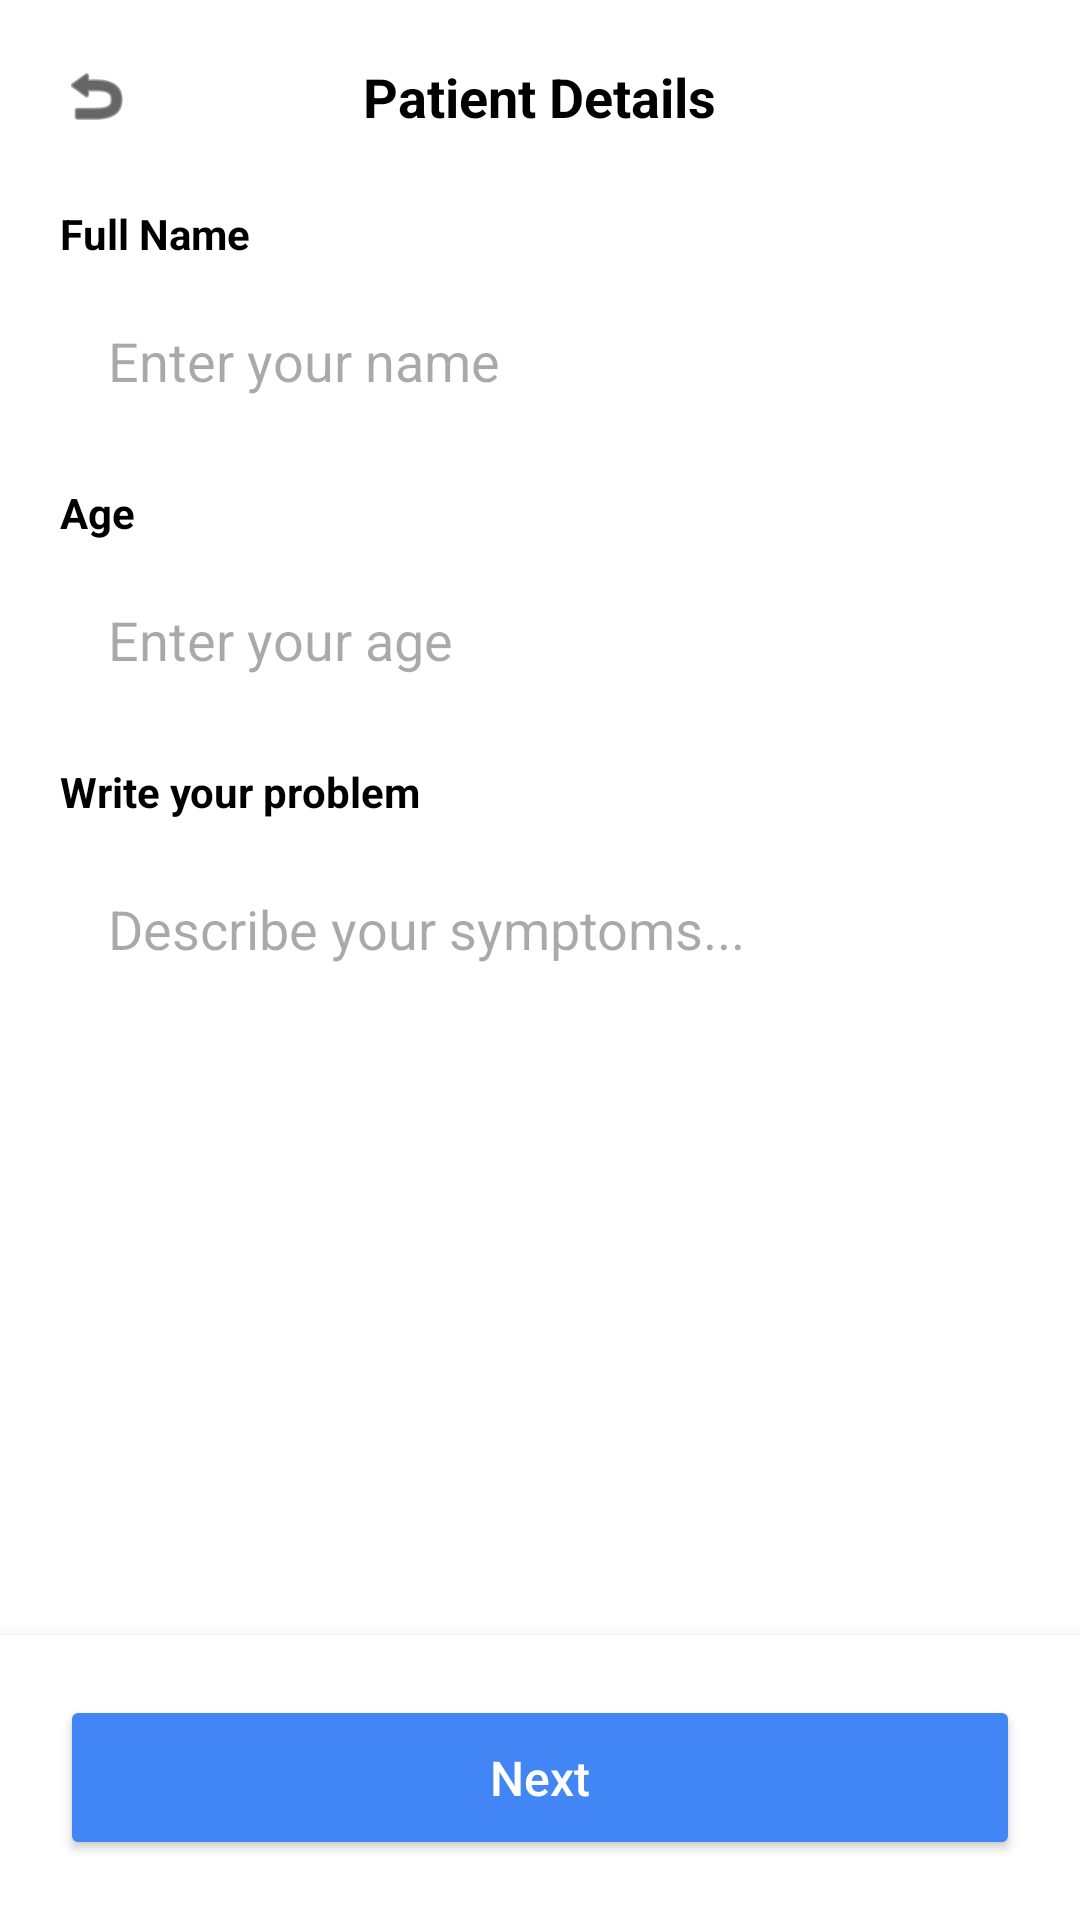

Icons on this 1080 x 1920 Android screen, each with its box as (x1, y1, x2, y2):
revert: (71, 73, 123, 120)
